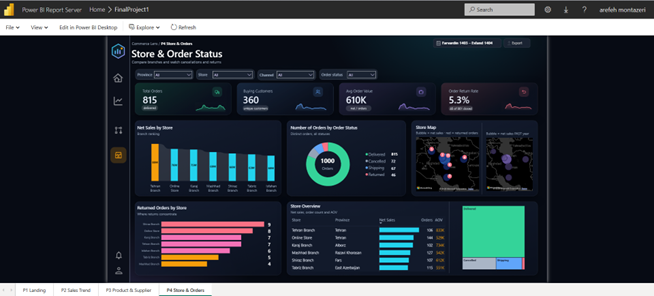

The page's visual inventory and layout, read from the dashboard file:
{"tool":"powerbi","page":{"name":"P4 Store & Orders","canvas":[1920,1080],"ordinal":3},"visuals":[{"type":"shape","box":[82,0,26,1080],"z":0},{"type":"shape","box":[0,0,96,1080],"z":1000},{"type":"image","box":[0,28,96,80],"z":2000},{"type":"image","box":[22,160,50,50],"z":3000},{"type":"image","box":[22,262,50,50],"z":4000},{"type":"image","box":[24,388,50,50],"z":5000},{"type":"image","box":[14,488,70,70],"z":6000},{"type":"image","box":[30,940,40,40],"z":7000},{"type":"image","box":[30,1006,40,40],"z":8000},{"type":"shape","box":[74,0,48,1080],"z":9000},{"type":"textbox","box":[102,0,322,68],"z":10000},{"type":"textbox","box":[100,44,558,80],"z":11000},{"type":"textbox","box":[102,100,404,48],"z":12000},{"type":"card","fields":{"Values":["Fact_OrderLines.Total Orders"]},"box":[120,246.2,130,65],"z":13000},{"type":"textbox","box":[148.8,226.2,122.5,38.8],"z":14000},{"type":"image","box":[453.8,224.5,52.5,43.8],"z":15000},{"type":"image","box":[381.7,287,135,55],"z":16000},{"type":"card","fields":{"Values":["Fact_OrderLines.Buying Customers"]},"box":[576.2,246.2,101.2,66.2],"z":17000},{"type":"shape","title":"fffffff","box":[591.2,305,113.8,26.2],"z":18000},{"type":"textbox","box":[588.8,226.2,177.5,37.5],"z":19000},{"type":"image","box":[894.9,223.8,52.5,43.8],"z":20000},{"type":"image","box":[822.8,286.3,135,55],"z":21000},{"type":"card","fields":{"Values":["Fact_OrderLines.Average Order Value_AOV"]},"box":[1006.2,246.2,160,66.2],"z":22000},{"type":"shape","title":"fffffff","box":[1042.5,305,112.5,26.2],"z":23000},{"type":"textbox","box":[1038.6,225.7,150,38.6],"z":24000},{"type":"image","box":[1344.7,223.8,52.5,43.8],"z":25000},{"type":"image","box":[1272.6,286.3,135,55],"z":26000},{"type":"card","fields":{"Values":["Fact_OrderLines.Order Return Rate"]},"box":[1476.2,246.2,122.5,65],"z":27000},{"type":"shape","title":"fffffff","box":[1491.2,306.2,107.5,25],"z":28000},{"type":"textbox","box":[1487.1,225.7,161.4,38.6],"z":29000},{"type":"image","box":[1793.1,223.8,52.5,43.8],"z":30000},{"type":"image","box":[1721,286.3,135,55],"z":31000},{"type":"shape","box":[122,148,255,46],"z":32000},{"type":"slicer","fields":{"Values":["Dim_Supplier.Province"]},"box":[194,146,186,48],"z":33000},{"type":"shape","box":[388.8,147.4,255,46],"z":34000},{"type":"slicer","fields":{"Values":["Dim_Store.StoreName"]},"box":[450,146,194,48],"z":35000},{"type":"shape","box":[656.2,148.2,255,46],"z":36000},{"type":"slicer","fields":{"Values":["Dim_Store.ChannelType"]},"box":[730,146,182,48],"z":37000},{"type":"shape","box":[925.5,147.5,255,46],"z":38000},{"type":"slicer","fields":{"Values":["Fact_OrderLines.OrderStatus"]},"box":[1038,146,144,48],"z":39000},{"type":"shape","title":"fffffff","box":[148.8,302.5,72.5,26.2],"z":40000},{"type":"donutChart","title":"Number of Orders by Order Status","fields":{"Category":["Fact_OrderLines.OrderStatus"],"Y":["Fact_OrderLines.All Orders"]},"box":[796,388,434,298],"z":41000},{"type":"card","fields":{"Values":["Count(Fact_OrderLines.OrderLineID)"]},"box":[852,518,218,82],"z":42000},{"type":"card","fields":{"Values":["Fact_OrderLines.Returned_Orders"]},"box":[1219.6,590.4,60,38],"z":43000},{"type":"card","fields":{"Values":["Fact_OrderLines.Cancel Orders"]},"box":[1231.6,528.4,36,42],"z":44000},{"type":"card","fields":{"Values":["Fact_OrderLines.Total Orders"]},"box":[1223.6,500.4,60,38],"z":45000},{"type":"card","fields":{"Values":["Fact_OrderLines.Shipping Orders"]},"box":[1219.6,562.4,60,38],"z":46000},{"type":"ribbonChart","title":"Net Sales by Store","fields":{"Category":["Dim_Store.StoreName"],"Y":["Fact_OrderLines.Net Sales"]},"box":[126,388,646,306],"z":47000},{"type":"treemap","fields":{"Group":["Fact_OrderLines.OrderStatus"],"Values":["Sum(Fact_OrderLines.NetSales)"]},"box":[1546,738,282,288],"z":48000},{"type":"clusteredBarChart","title":"Returned Orders by Store","fields":{"Y":["Fact_OrderLines.Returned Orders"],"Category":["Dim_Store.StoreName"]},"box":[126.2,738.8,613.8,287.5],"z":49000},{"type":"textbox","box":[696.2,805,33.8,237.5],"z":50000},{"type":"tableEx","title":"Store Overview","fields":{"Values":["Dim_Store.StoreName","Dim_Store.Province","Fact_OrderLines.Net Sales","Fact_OrderLines.Total Orders","Fact_OrderLines.Average Order Value_AOV"]},"box":[796,732,714,342],"z":51000},{"type":"shape","box":[1418,726,150,312],"z":52000},{"type":"map","title":"Store Map","fields":{"Category":["Dim_Store.Province"],"Size":["Fact_OrderLines.Net Sales"]},"box":[1343.8,387.5,286.2,298.8],"z":53000},{"type":"shape","title":"1","box":[1485.4,603.9,20,20],"z":54000},{"type":"textbox","box":[1482.2,595,26.2,37.5],"z":55000},{"type":"shape","title":"1","box":[1485,553.7,20,20],"z":56000},{"type":"textbox","box":[1481.7,548.1,26.7,30],"z":57000},{"type":"shape","title":"1","box":[1479.2,513.7,20,20],"z":58000},{"type":"textbox","box":[1475.9,508.1,26.7,30],"z":59000},{"type":"shape","title":"1","box":[1454,511.3,20,20],"z":60000},{"type":"textbox","box":[1450.7,505.8,26.7,30],"z":61000},{"type":"shape","title":"1","box":[1406.1,486,20,20],"z":62000},{"type":"textbox","box":[1402.8,480.4,26.7,30],"z":63000},{"type":"shape","title":"1","box":[1551.2,521.7,20,20],"z":64000},{"type":"textbox","box":[1547.9,516.1,26.7,30],"z":65000},{"type":"shape","box":[1561.2,381.2,150,312.5],"z":66000},{"type":"map","fields":{"Category":["Dim_Store.Province"],"Size":["Fact_OrderLines.Net Sales PY"]},"box":[1650,412.5,213.8,272.5],"z":67000},{"type":"shape","box":[1424,14,298,40],"z":68000},{"type":"image","box":[1434,24,26,20],"z":69000},{"type":"shape","box":[1732,14,116,40],"z":70000},{"type":"image","box":[1740,24,30,20],"z":71000}]}

Visuals, with their boxes on the page's 1920x1080 design canvas (x1, y1, x2, y2). These are canvas units, not pixel positions in the 654x296 screenshot, which may show the page scaled, cropped or inside an application window:
shape: x1=82, y1=0, x2=108, y2=1080
shape: x1=0, y1=0, x2=96, y2=1080
image: x1=0, y1=28, x2=96, y2=108
image: x1=22, y1=160, x2=72, y2=210
image: x1=22, y1=262, x2=72, y2=312
image: x1=24, y1=388, x2=74, y2=438
image: x1=14, y1=488, x2=84, y2=558
image: x1=30, y1=940, x2=70, y2=980
image: x1=30, y1=1006, x2=70, y2=1046
shape: x1=74, y1=0, x2=122, y2=1080
textbox: x1=102, y1=0, x2=424, y2=68
textbox: x1=100, y1=44, x2=658, y2=124
textbox: x1=102, y1=100, x2=506, y2=148
card - Fact_OrderLines.Total Orders: x1=120, y1=246, x2=250, y2=311
textbox: x1=149, y1=226, x2=271, y2=265
image: x1=454, y1=224, x2=506, y2=268
image: x1=382, y1=287, x2=517, y2=342
card - Fact_OrderLines.Buying Customers: x1=576, y1=246, x2=677, y2=312
"fffffff" shape: x1=591, y1=305, x2=705, y2=331
textbox: x1=589, y1=226, x2=766, y2=264
image: x1=895, y1=224, x2=947, y2=268
image: x1=823, y1=286, x2=958, y2=341
card - Fact_OrderLines.Average Order Value_AOV: x1=1006, y1=246, x2=1166, y2=312
"fffffff" shape: x1=1042, y1=305, x2=1155, y2=331
textbox: x1=1039, y1=226, x2=1189, y2=264
image: x1=1345, y1=224, x2=1397, y2=268
image: x1=1273, y1=286, x2=1408, y2=341
card - Fact_OrderLines.Order Return Rate: x1=1476, y1=246, x2=1599, y2=311
"fffffff" shape: x1=1491, y1=306, x2=1599, y2=331
textbox: x1=1487, y1=226, x2=1648, y2=264
image: x1=1793, y1=224, x2=1846, y2=268
image: x1=1721, y1=286, x2=1856, y2=341
shape: x1=122, y1=148, x2=377, y2=194
slicer - Dim_Supplier.Province: x1=194, y1=146, x2=380, y2=194
shape: x1=389, y1=147, x2=644, y2=193
slicer - Dim_Store.StoreName: x1=450, y1=146, x2=644, y2=194
shape: x1=656, y1=148, x2=911, y2=194
slicer - Dim_Store.ChannelType: x1=730, y1=146, x2=912, y2=194
shape: x1=926, y1=148, x2=1180, y2=194
slicer - Fact_OrderLines.OrderStatus: x1=1038, y1=146, x2=1182, y2=194
"fffffff" shape: x1=149, y1=302, x2=221, y2=329
"Number of Orders by Order Status" donutChart: x1=796, y1=388, x2=1230, y2=686
card - Count(Fact_OrderLines.OrderLineID): x1=852, y1=518, x2=1070, y2=600
card - Fact_OrderLines.Returned_Orders: x1=1220, y1=590, x2=1280, y2=628
card - Fact_OrderLines.Cancel Orders: x1=1232, y1=528, x2=1268, y2=570
card - Fact_OrderLines.Total Orders: x1=1224, y1=500, x2=1284, y2=538
card - Fact_OrderLines.Shipping Orders: x1=1220, y1=562, x2=1280, y2=600
"Net Sales by Store" ribbonChart: x1=126, y1=388, x2=772, y2=694
treemap - Fact_OrderLines.OrderStatus x Sum(Fact_OrderLines.NetSales): x1=1546, y1=738, x2=1828, y2=1026
"Returned Orders by Store" clusteredBarChart: x1=126, y1=739, x2=740, y2=1026
textbox: x1=696, y1=805, x2=730, y2=1042
"Store Overview" tableEx: x1=796, y1=732, x2=1510, y2=1074
shape: x1=1418, y1=726, x2=1568, y2=1038
"Store Map" map: x1=1344, y1=388, x2=1630, y2=686
"1" shape: x1=1485, y1=604, x2=1505, y2=624
textbox: x1=1482, y1=595, x2=1508, y2=632
"1" shape: x1=1485, y1=554, x2=1505, y2=574
textbox: x1=1482, y1=548, x2=1508, y2=578
"1" shape: x1=1479, y1=514, x2=1499, y2=534
textbox: x1=1476, y1=508, x2=1503, y2=538
"1" shape: x1=1454, y1=511, x2=1474, y2=531
textbox: x1=1451, y1=506, x2=1477, y2=536
"1" shape: x1=1406, y1=486, x2=1426, y2=506
textbox: x1=1403, y1=480, x2=1430, y2=510
"1" shape: x1=1551, y1=522, x2=1571, y2=542
textbox: x1=1548, y1=516, x2=1575, y2=546
shape: x1=1561, y1=381, x2=1711, y2=694
map - Dim_Store.Province x Fact_OrderLines.Net Sales PY: x1=1650, y1=412, x2=1864, y2=685
shape: x1=1424, y1=14, x2=1722, y2=54
image: x1=1434, y1=24, x2=1460, y2=44
shape: x1=1732, y1=14, x2=1848, y2=54
image: x1=1740, y1=24, x2=1770, y2=44
